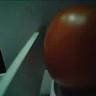tomato: (41, 1, 96, 96)
